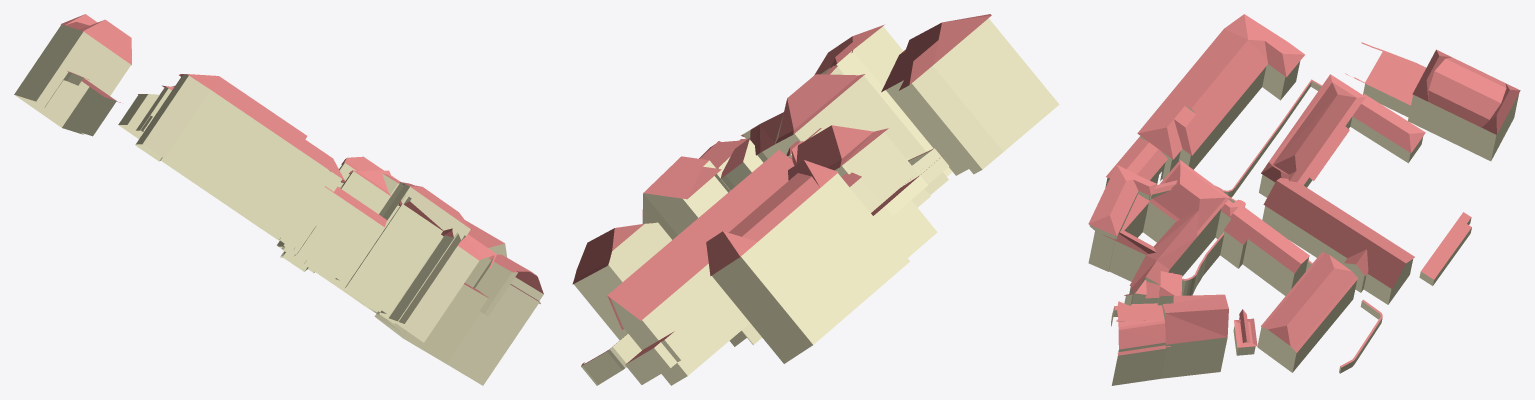
Rendered from tile_031.glb.
3 renders of one model, left to right at view 1: azimuth 30°, elevation 25°; view 2: azimuth 150°, elevation 25°; view 3: azimuth 270°, elevation 25°, orthographic. The views are drawn at different scales.
Parts seen in each view (by area): view 1: Batched_Building_ID_26BF7708-7CAB-429E-B6C5-A5B314D2A7F3, Batched_Building_ID_16F4FF19-C980-44EA-94E1-CA924C5B1856; view 2: Batched_Building_ID_26BF7708-7CAB-429E-B6C5-A5B314D2A7F3, Batched_Building_ID_16F4FF19-C980-44EA-94E1-CA924C5B1856; view 3: Batched_Building_ID_16F4FF19-C980-44EA-94E1-CA924C5B1856, Batched_Building_ID_26BF7708-7CAB-429E-B6C5-A5B314D2A7F3.
Boxes of the visible parts, <box> form: Batched_Building_ID_26BF7708-7CAB-429E-B6C5-A5B314D2A7F3: <box>14,24,543,385</box>; Batched_Building_ID_16F4FF19-C980-44EA-94E1-CA924C5B1856: <box>61,14,543,303</box>; Batched_Building_ID_26BF7708-7CAB-429E-B6C5-A5B314D2A7F3: <box>574,18,1059,385</box>; Batched_Building_ID_16F4FF19-C980-44EA-94E1-CA924C5B1856: <box>572,14,991,366</box>; Batched_Building_ID_16F4FF19-C980-44EA-94E1-CA924C5B1856: <box>1088,14,1520,367</box>; Batched_Building_ID_26BF7708-7CAB-429E-B6C5-A5B314D2A7F3: <box>1088,61,1518,385</box>.
Size of the model in its own units: 122 by 109 by 155.
